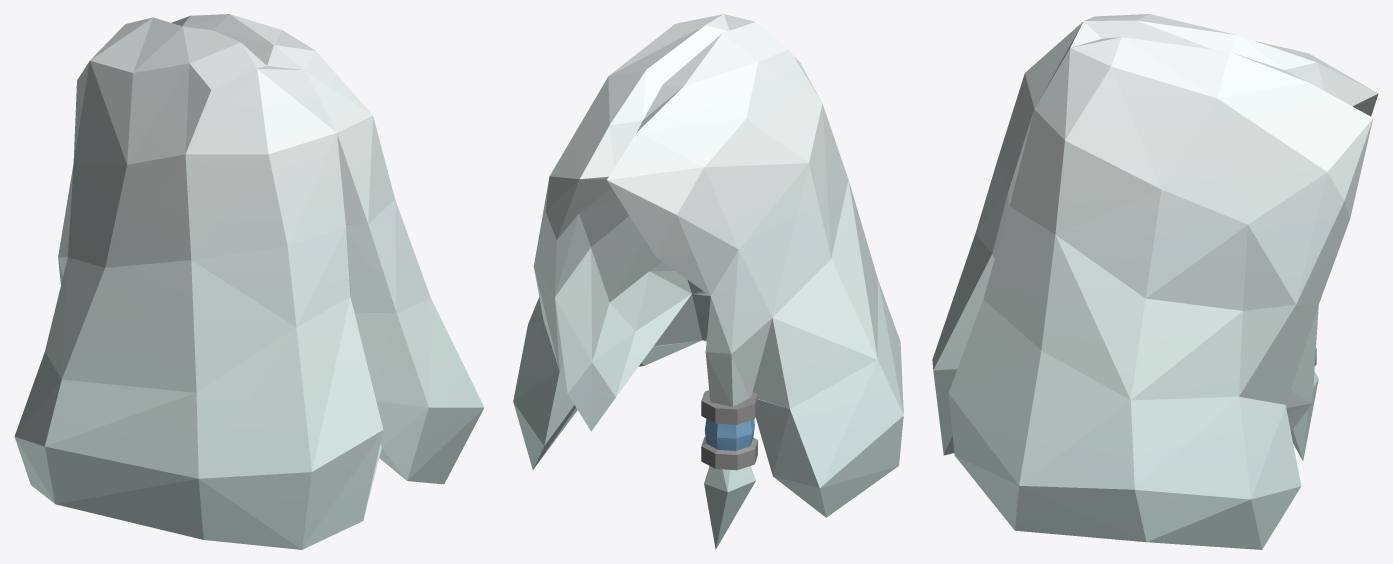
Rendered from CharSkyKid_Hair_ShoulderLongTie.glb.
The picture shows the model from 3 angles, left to right: view 1: azimuth 30°, elevation 25°; view 2: azimuth 150°, elevation 25°; view 3: azimuth 270°, elevation 25°; orthographic projection. The views are drawn at different scales.
Parts seen in each view (by area): view 1: CharSkyKid_Hair_ShoulderLongTie; view 2: CharSkyKid_Hair_ShoulderLongTie; view 3: CharSkyKid_Hair_ShoulderLongTie.
Part boxes in pixels (box(x1,y1,x2,y2)): CharSkyKid_Hair_ShoulderLongTie: box(14, 14, 484, 549); CharSkyKid_Hair_ShoulderLongTie: box(513, 14, 903, 549); CharSkyKid_Hair_ShoulderLongTie: box(932, 14, 1378, 549).
Size of the model in its own units: 4.48 by 5.02 by 4.25.
Materials: 1 (1 with a texture image).
